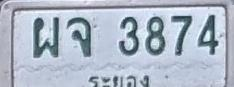3: (118, 16, 139, 56)
4: (197, 14, 218, 55)
7: (171, 14, 192, 56)
8: (145, 16, 165, 56)
A08: (67, 16, 92, 56)
A28: (32, 16, 60, 58)
RYG: (85, 72, 155, 87)
